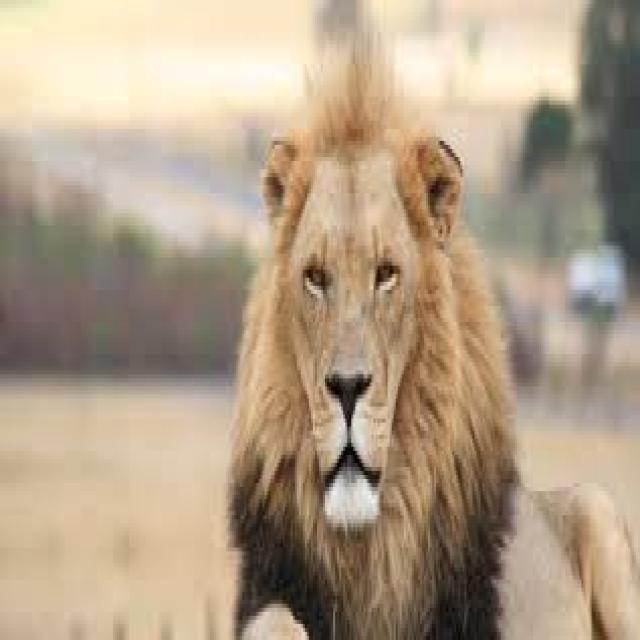Lion: (223, 50, 638, 636)
